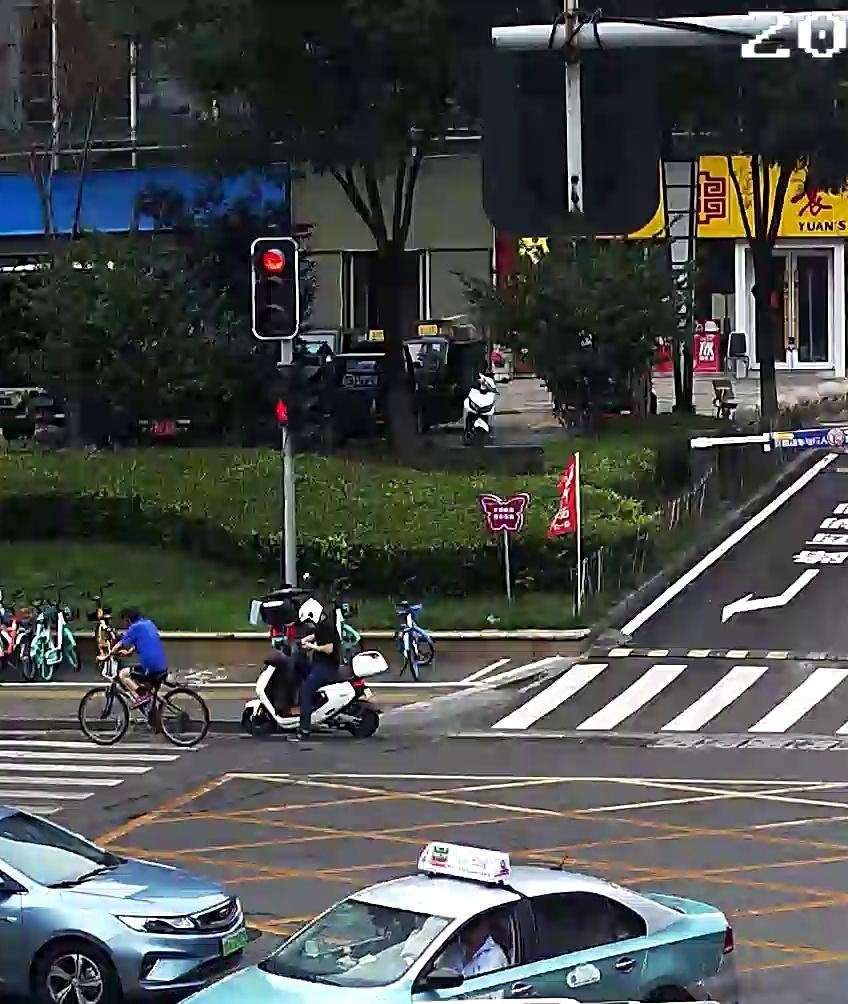red: (259, 239, 287, 269)
redpeople: (270, 396, 290, 422)
